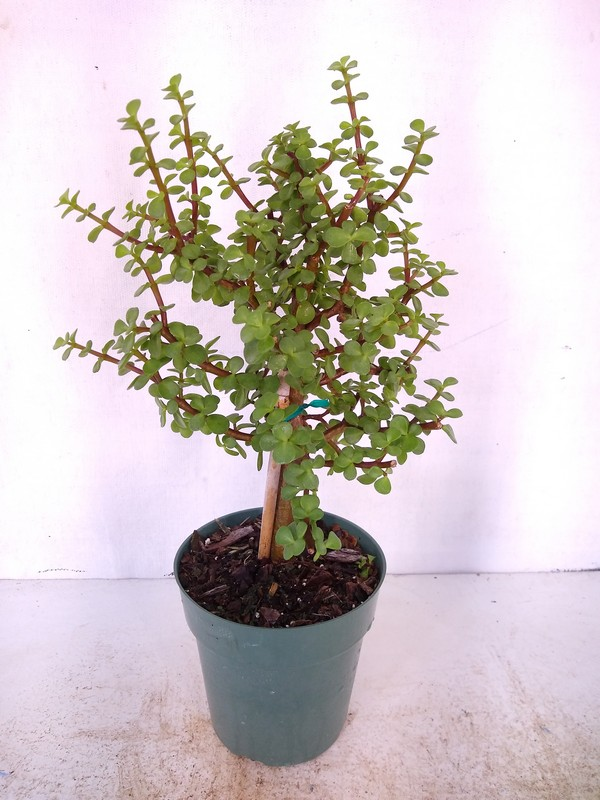plant: (49, 57, 464, 566)
pot: (172, 503, 389, 768)
